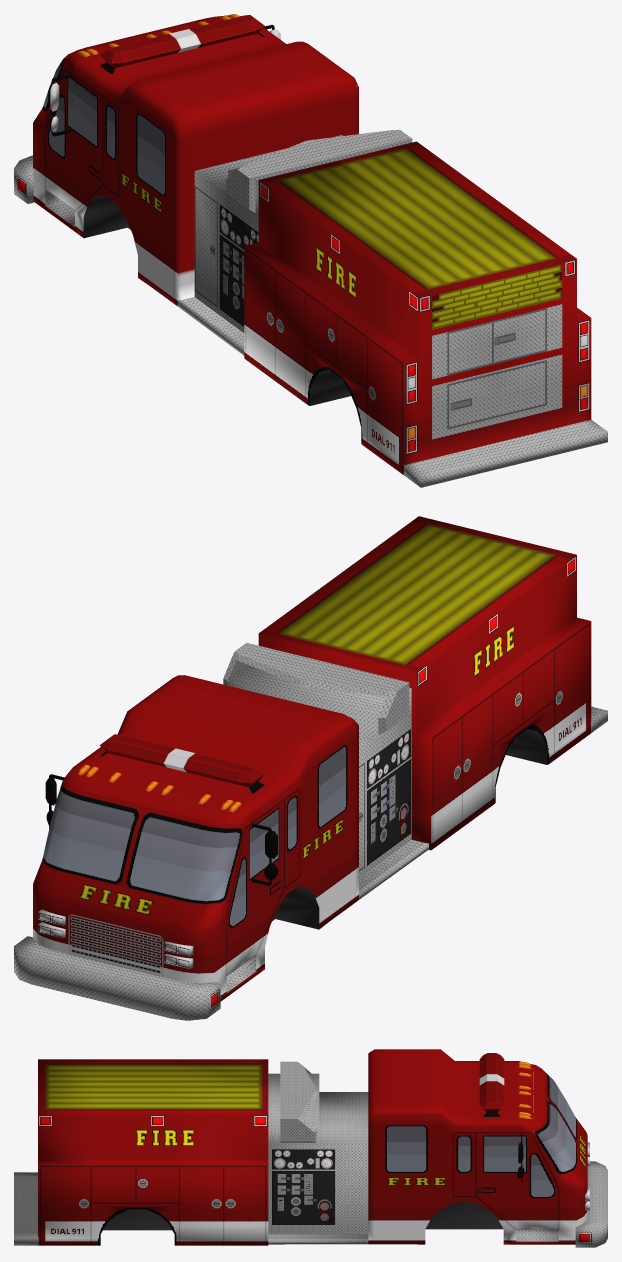
The model's file is 93lefrance2.fbx.
3 views of the same model, one above another, from view 1: azimuth 30°, elevation 25°; view 2: azimuth 150°, elevation 25°; view 3: azimuth 270°, elevation 25° (orthographic). The views are drawn at different scales.
Parts seen in each view (by area): view 1: 93lefrance2; view 2: 93lefrance2; view 3: 93lefrance2.
Part boxes in pixels (x1,y1,x2,y2): 93lefrance2: (14,14,607,487); 93lefrance2: (14,516,607,1020); 93lefrance2: (14,1049,607,1247).
Bounding box in the file's own units: 3.12 × 2.45 × 9.69.
